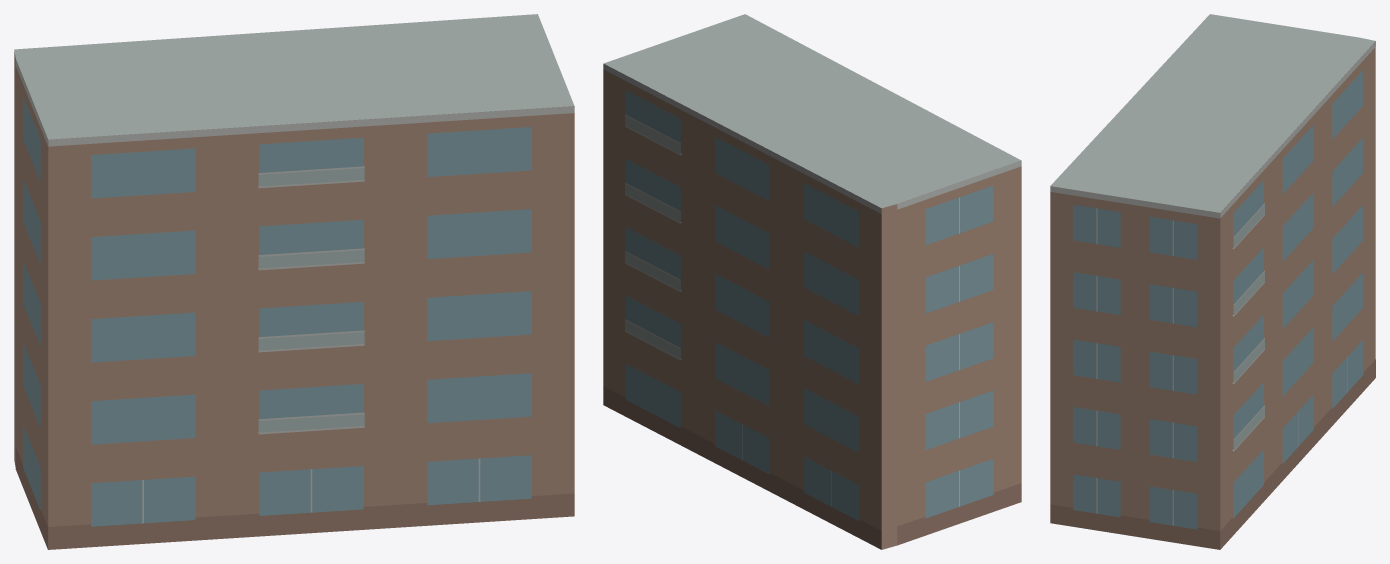
The model's file is survey-upis-32991935.glb.
3 renders of one model, left to right at view 1: azimuth 30°, elevation 25°; view 2: azimuth 150°, elevation 25°; view 3: azimuth 270°, elevation 25°, orthographic. The views are drawn at different scales.
Visible parts, largest first — view 1: survey-upis-32991935.tmp; view 2: survey-upis-32991935.tmp; view 3: survey-upis-32991935.tmp.
Boxes of the visible parts, x1,y1,x2,y2 form: survey-upis-32991935.tmp: [14, 14, 574, 549]; survey-upis-32991935.tmp: [603, 14, 1021, 549]; survey-upis-32991935.tmp: [1050, 14, 1375, 549].
Size of the model in its own units: 18.1 by 14.3 by 12.53.
